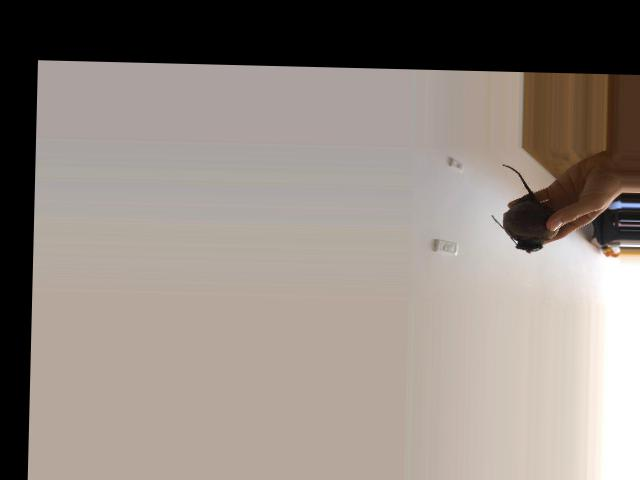beet: (489, 163, 561, 253)
